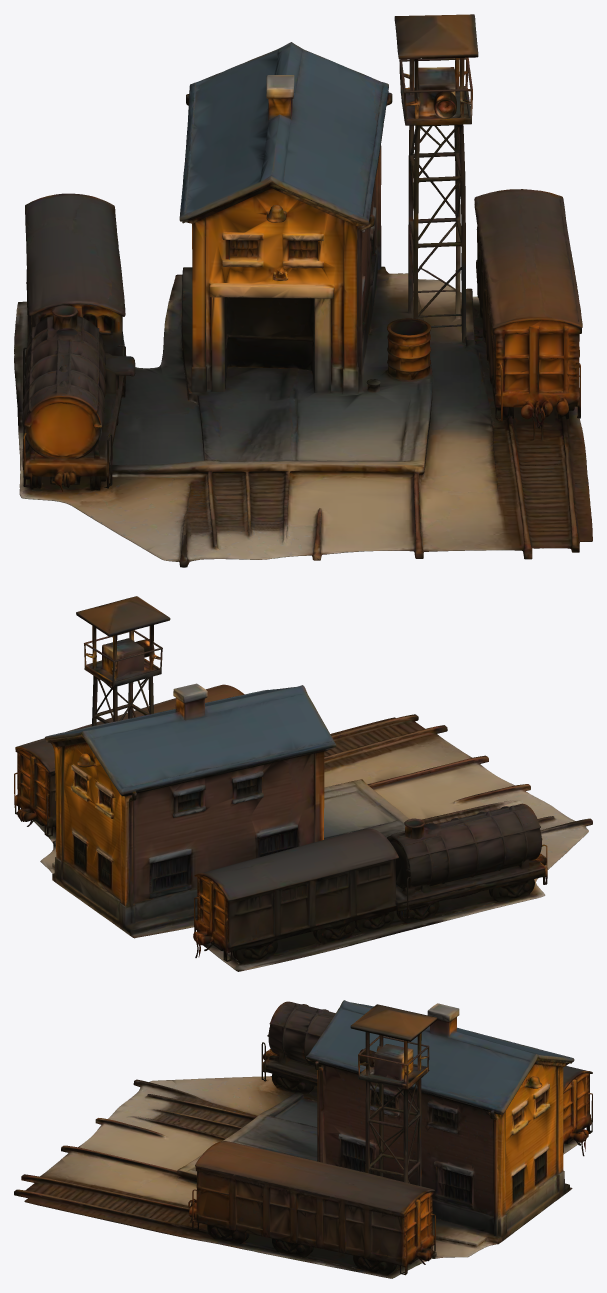
The model's file is depot-visual-m.glb.
The picture shows the model from 3 angles, top to bottom: view 1: azimuth 30°, elevation 25°; view 2: azimuth 150°, elevation 25°; view 3: azimuth 270°, elevation 25°; orthographic projection. The views are drawn at different scales.
Visible parts, largest first — view 1: node_0; view 2: node_0; view 3: node_0.
Part boxes in pixels (x1=…): node_0: x1=14, y1=14, x2=592, y2=567; node_0: x1=14, y1=596, x2=592, y2=971; node_0: x1=14, y1=1000, x2=592, y2=1278.
Bounding box in the file's own units: 0.954 × 0.4625 × 1.07.
Materials: 1 (1 with a texture image).
